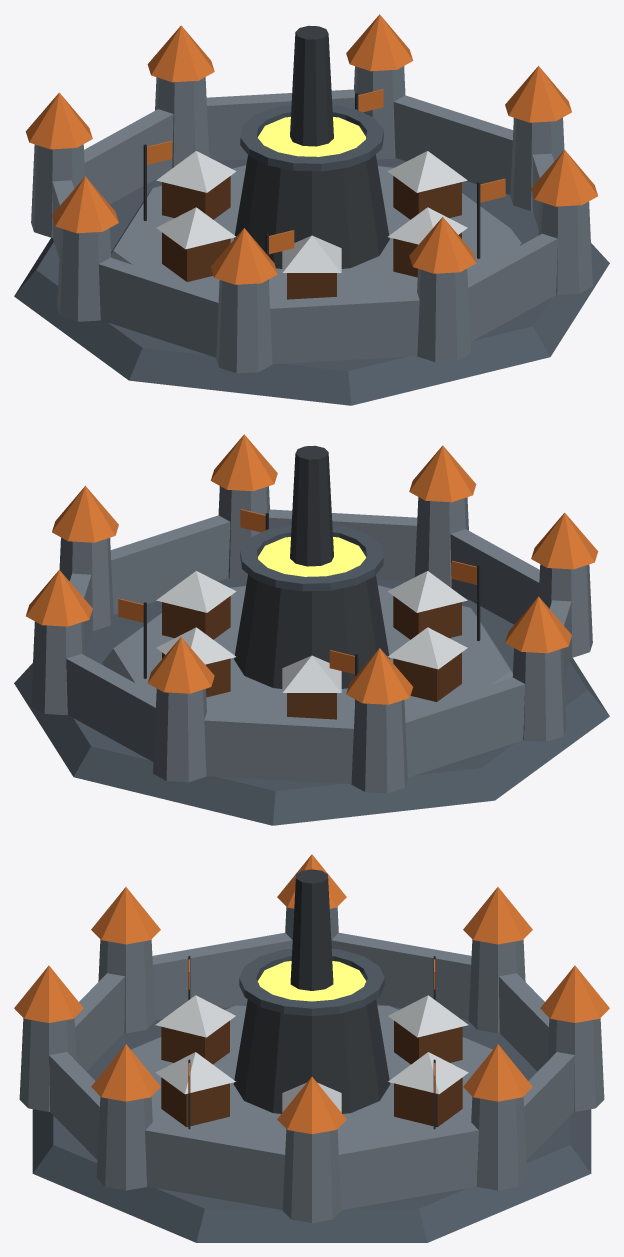
File: sun_city.glb
3 renders of one model, top to bottom at view 1: azimuth 30°, elevation 25°; view 2: azimuth 150°, elevation 25°; view 3: azimuth 270°, elevation 25°, orthographic.
Visible parts, largest first — view 1: sun_city; view 2: sun_city; view 3: sun_city.
Boxes of the visible parts, x1,y1,x2,y2 form: sun_city: (14, 14, 609, 405); sun_city: (14, 434, 609, 825); sun_city: (14, 854, 609, 1242).
Bounding box in the file's own units: 21.3 × 9.8 × 21.3.
